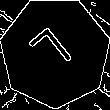L_SE: (28, 23, 82, 82)
